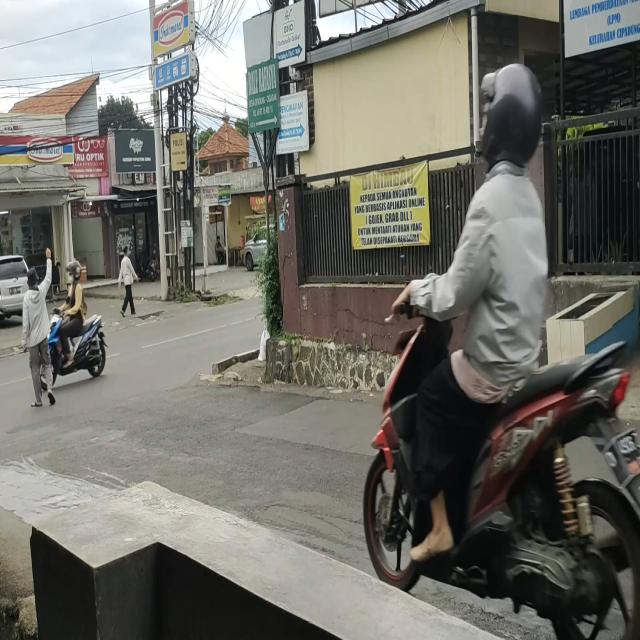helmet: (486, 67, 536, 159), (68, 260, 80, 284)
